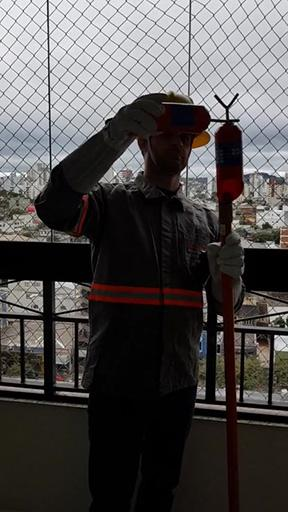Detector_Tensao_Contato: (212, 93, 245, 203), (138, 100, 242, 134)
Vara_Manobra: (217, 197, 243, 512)
